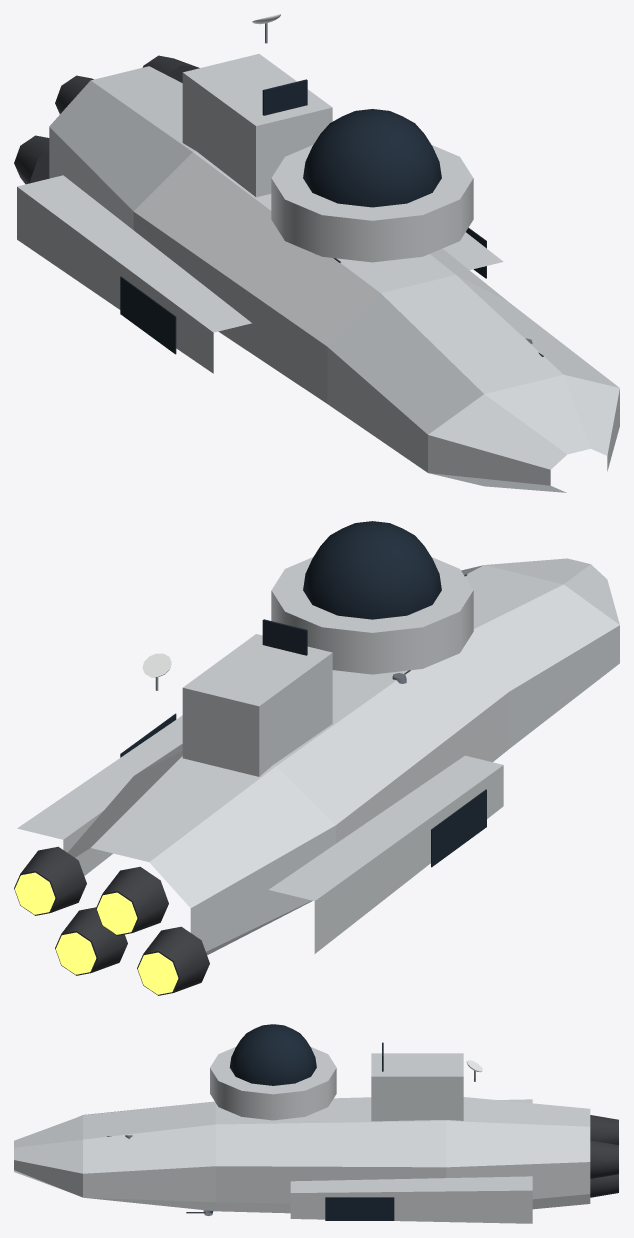
Rendered from space_ship_command_ship_mk1.glb.
3 views of the same model, one above another, from view 1: azimuth 30°, elevation 25°; view 2: azimuth 150°, elevation 25°; view 3: azimuth 270°, elevation 25° (orthographic). The views are drawn at different scales.
Parts seen in each view (by area): view 1: body, hangar_r, engine_0, engine_3, engine_1; view 2: body, engine_3, engine_1, engine_0, engine_2, hangar_r; view 3: body, hangar_l, engine_3, engine_1, engine_2.
Boxes of the visible parts, bbox=[...] form: body: bbox=[17, 54, 619, 492]; hangar_r: bbox=[120, 276, 176, 354]; engine_0: bbox=[14, 135, 49, 184]; engine_3: bbox=[142, 55, 199, 82]; engine_1: bbox=[55, 75, 93, 113]; body: bbox=[17, 521, 619, 955]; engine_3: bbox=[14, 846, 86, 915]; engine_1: bbox=[96, 866, 168, 935]; engine_0: bbox=[137, 926, 209, 995]; engine_2: bbox=[55, 907, 127, 975]; hangar_r: bbox=[431, 789, 486, 867]; body: bbox=[14, 1024, 590, 1223]; hangar_l: bbox=[325, 1197, 394, 1220]; engine_3: bbox=[590, 1140, 619, 1178]; engine_1: bbox=[590, 1115, 619, 1145]; engine_2: bbox=[590, 1173, 619, 1197].
Size of what is drawn, in the model's own units: 31.34 by 27.04 by 84.12.
